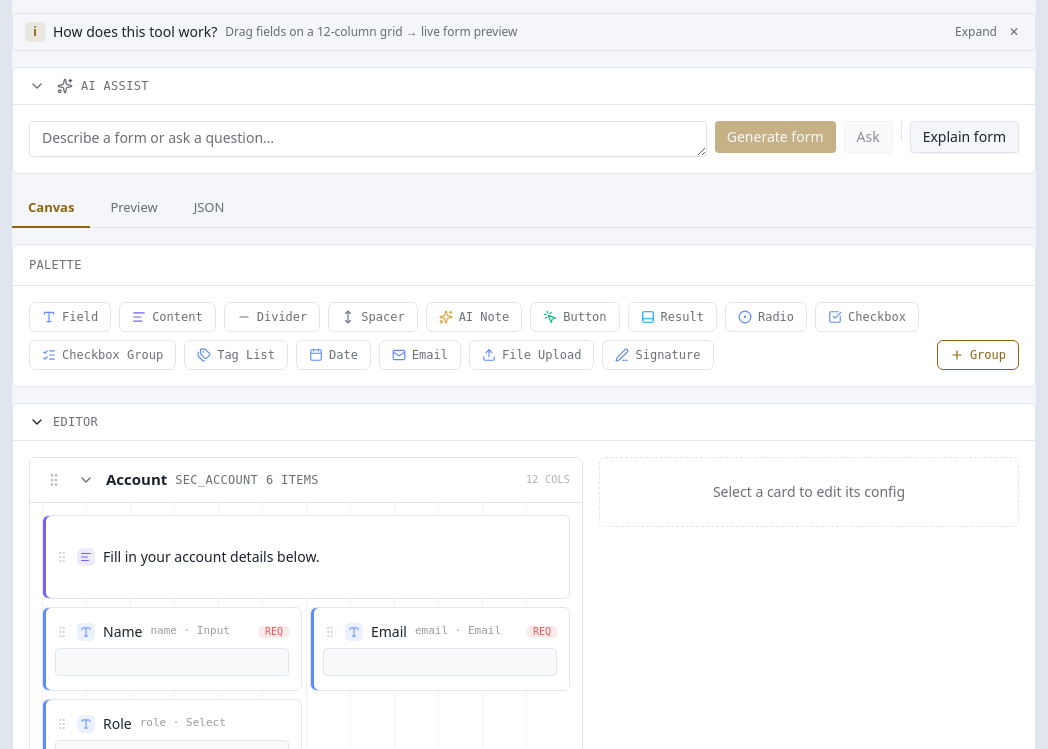
Test case: FormBuilderTool preview tab integration › preview: clicking a custom button surfaces the action in the submission panel
This screenshot has width=1048, height=749.
Click the button "Preview": coordinates (134, 209) [94, 190, 174, 228]
(page scrolled)
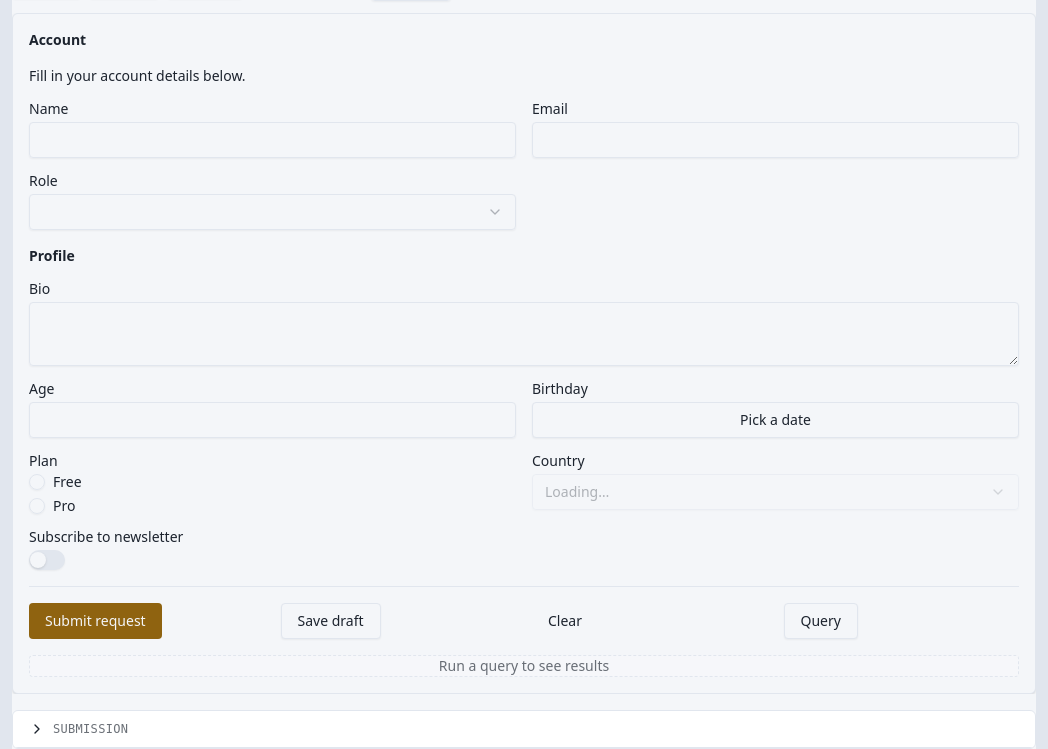
Click the button "Save draft": coordinates (330, 620) [280, 602, 380, 638]
(page scrolled)
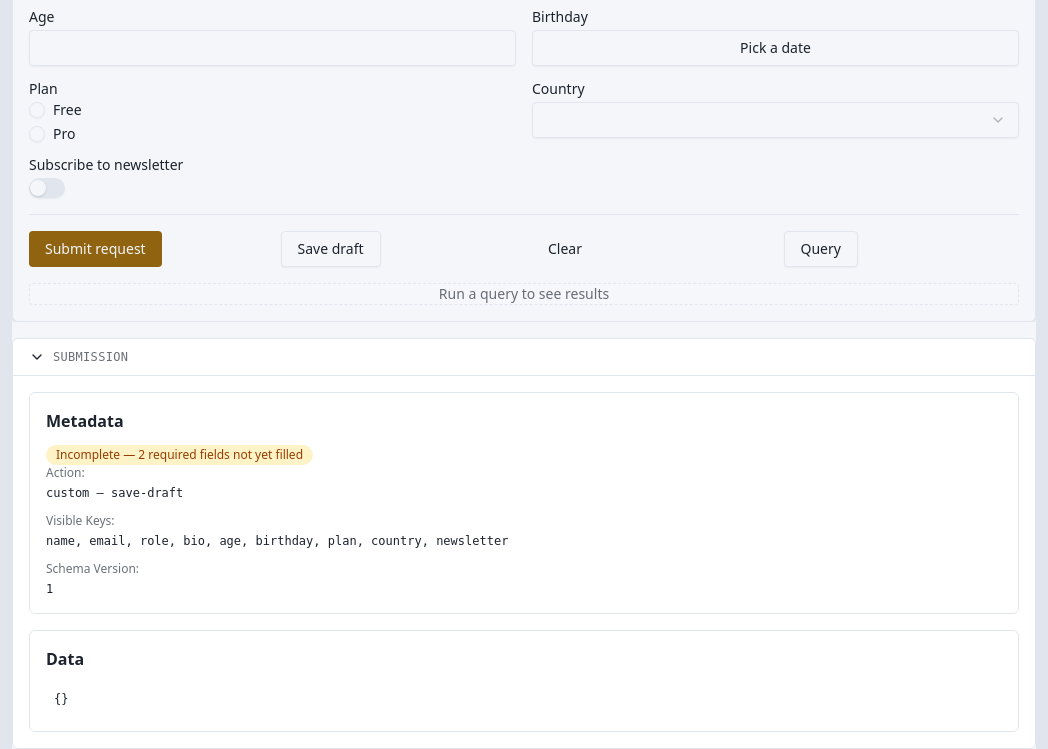
Check: the text "custom — save-draft" is shown, box [46, 486, 183, 500]
